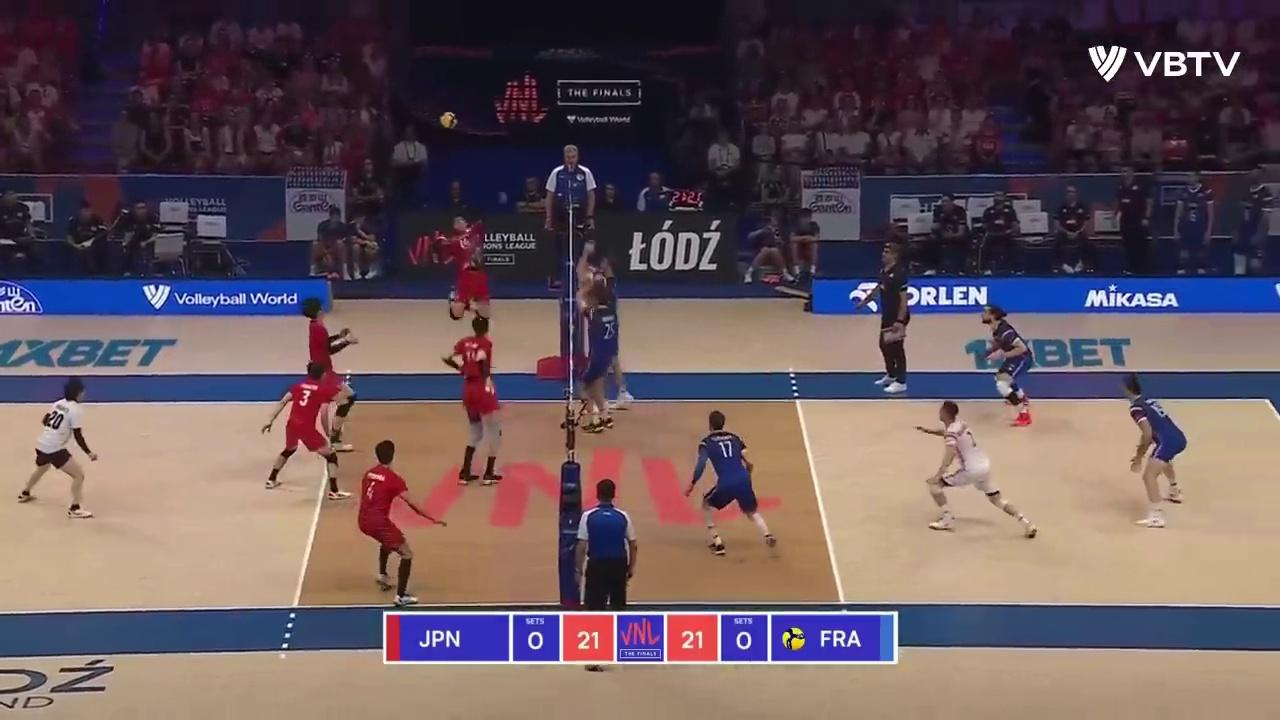ball: (441, 112, 457, 128)
